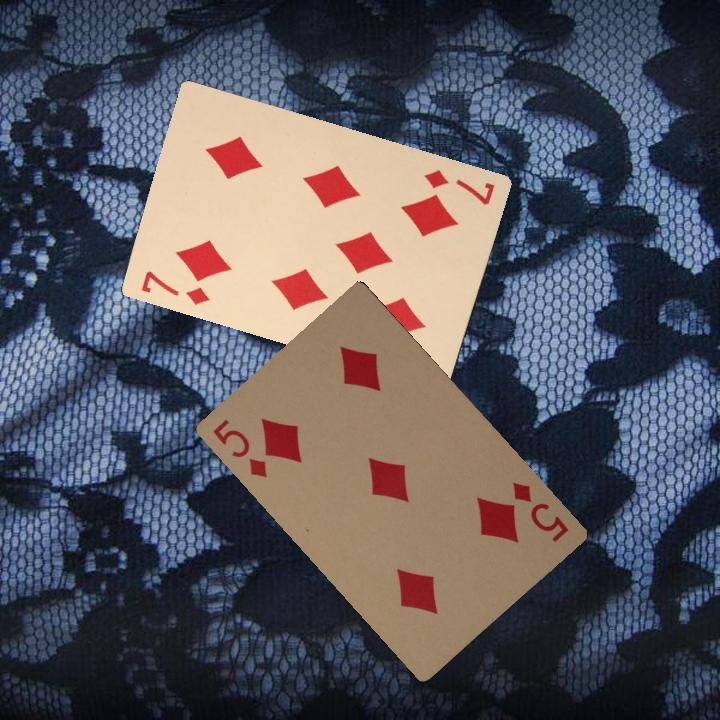5d: (508, 478, 571, 545), (208, 415, 270, 481)
7d: (420, 165, 498, 208), (137, 266, 212, 308)
